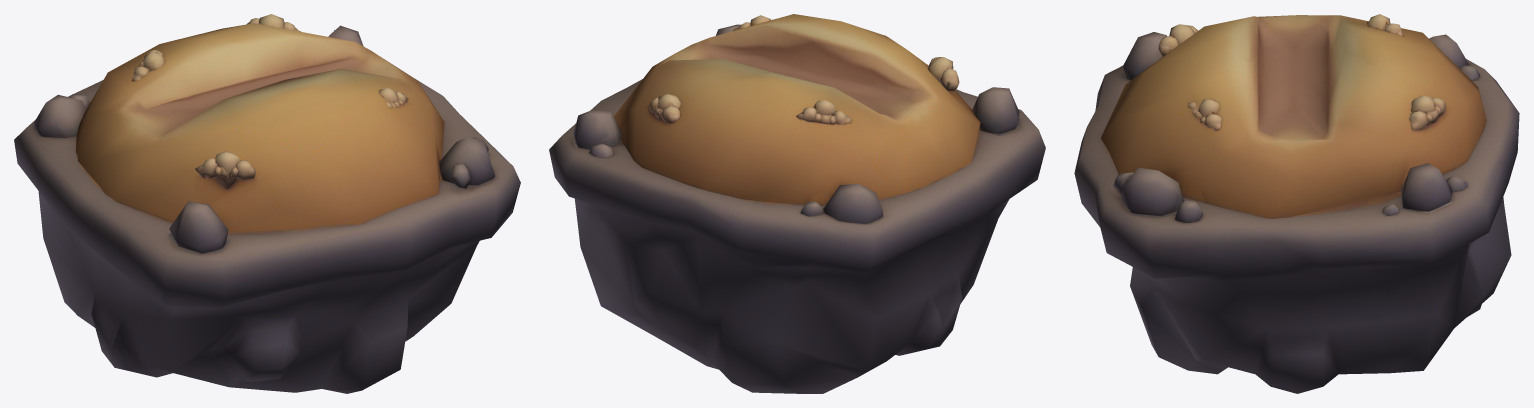
Rendered from earth_nourish_t2.glb.
3 renders of one model, left to right at view 1: azimuth 30°, elevation 25°; view 2: azimuth 150°, elevation 25°; view 3: azimuth 270°, elevation 25°, orthographic. The views are drawn at different scales.
Parts seen in each view (by area): view 1: tripo_node_2c5f1629-4ce1-4a2c-95fd-aa4c17c711f3; view 2: tripo_node_2c5f1629-4ce1-4a2c-95fd-aa4c17c711f3; view 3: tripo_node_2c5f1629-4ce1-4a2c-95fd-aa4c17c711f3.
Part boxes in pixels (x1,y1,x2,y2): tripo_node_2c5f1629-4ce1-4a2c-95fd-aa4c17c711f3: (14, 14, 520, 393); tripo_node_2c5f1629-4ce1-4a2c-95fd-aa4c17c711f3: (549, 14, 1045, 393); tripo_node_2c5f1629-4ce1-4a2c-95fd-aa4c17c711f3: (1074, 14, 1519, 393).
Bounding box in the file's own units: 0.998 × 0.7676 × 0.9707.
1 material, 1 textured.
